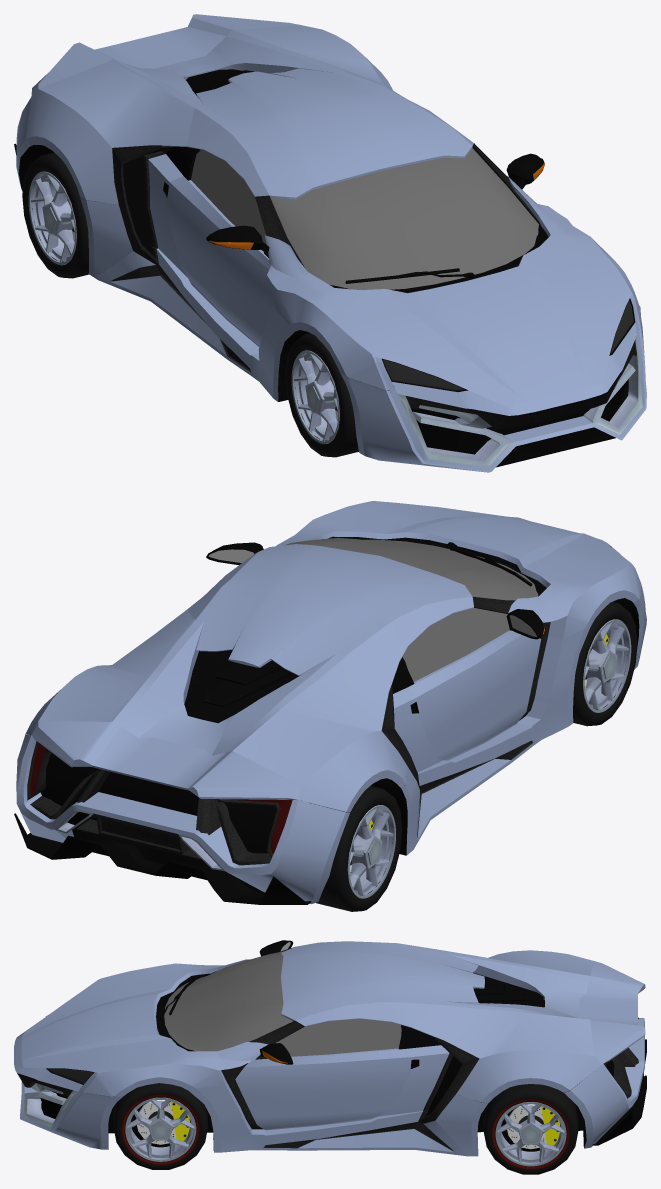
The model's file is car3.glb.
The picture shows the model from 3 angles, top to bottom: view 1: azimuth 30°, elevation 25°; view 2: azimuth 150°, elevation 25°; view 3: azimuth 270°, elevation 25°; orthographic projection. The views are drawn at different scales.
Visible parts, largest first — view 1: lux_1.001, wh_3_lux_1.001, wh_4_lux_1.001; view 2: lux_1.001, wh_4_lux_1.001, wh_3_lux_1.001; view 3: lux_1.001, wh_2_lux_1.001, wh_1_lux_1.001.
Part boxes in pixels (x1,y1,x2,y2): lux_1.001: (14, 14, 646, 472); wh_3_lux_1.001: (285, 333, 358, 457); wh_4_lux_1.001: (22, 152, 88, 278); lux_1.001: (14, 501, 646, 904); wh_4_lux_1.001: (316, 786, 402, 911); wh_3_lux_1.001: (573, 602, 637, 726); lux_1.001: (14, 940, 646, 1156); wh_2_lux_1.001: (483, 1084, 578, 1174); wh_1_lux_1.001: (113, 1083, 207, 1169).
Bounding box in the file's own units: 2.01 × 1.18 × 4.45.
3 materials, 2 textured.
